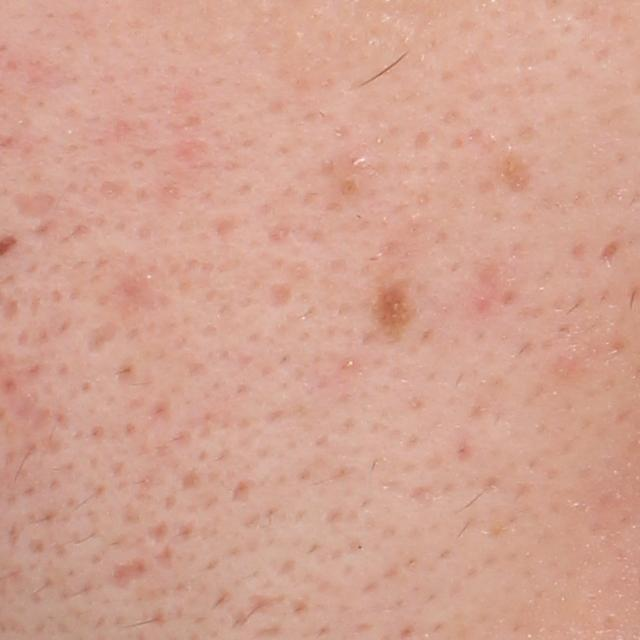atrophic_scar: (85, 316, 124, 356), (110, 557, 151, 592), (11, 191, 58, 221), (259, 275, 293, 312), (595, 235, 620, 262)
comedo: (350, 152, 369, 169)
nevus: (374, 280, 421, 343)
